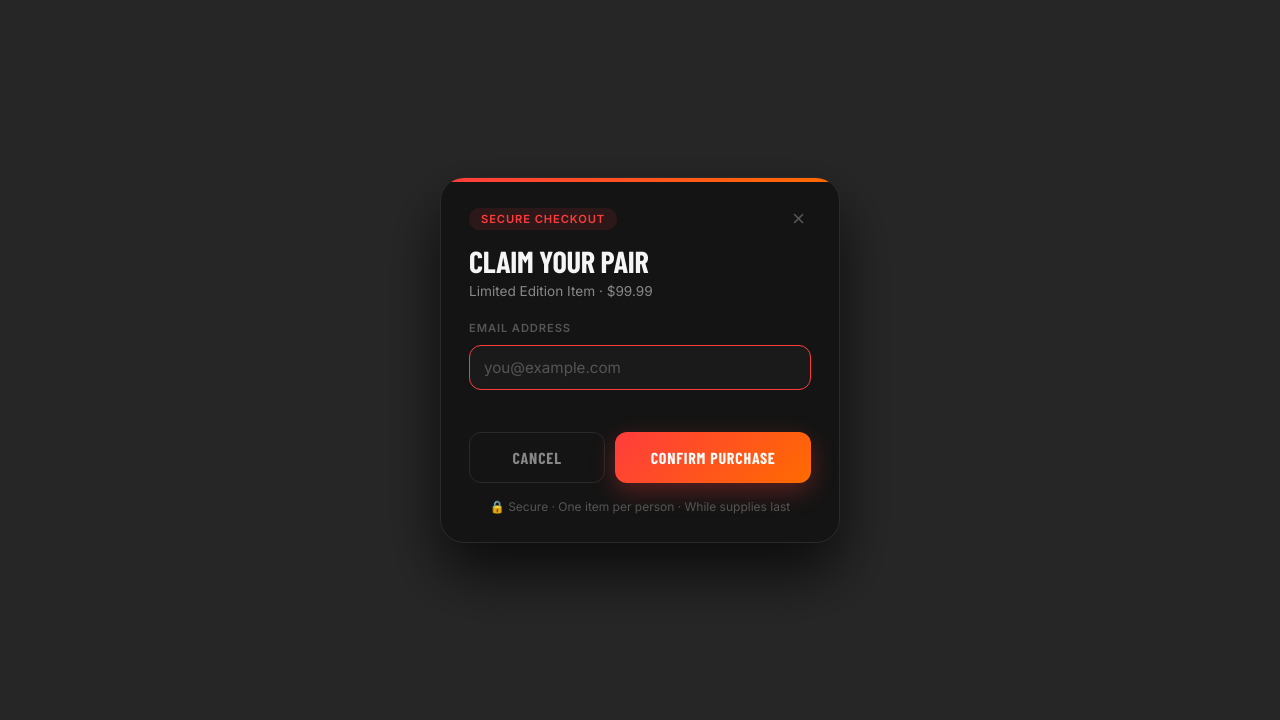
PurchaseModal › shows a friendly message when the user already purchased
Type "buyer@example.com" into the field labelled "Email address". click: (640, 367)
box: [469,345,811,390]
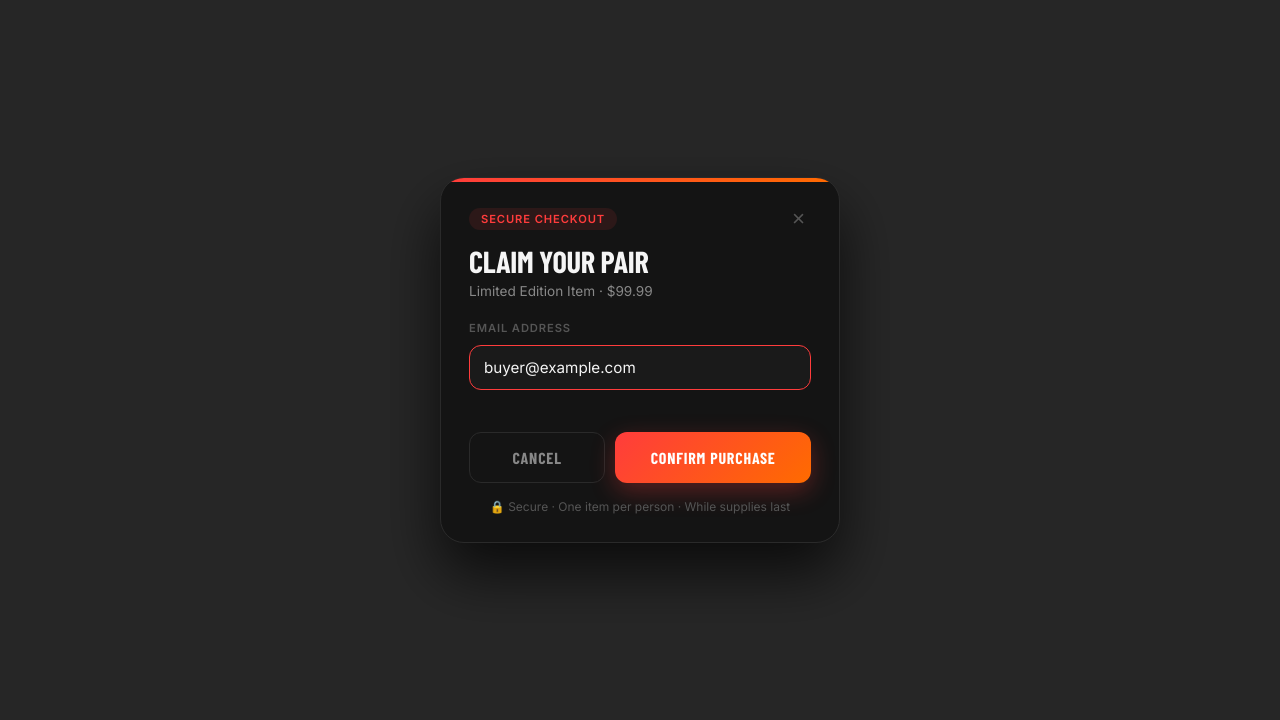
Click the button "Confirm purchase". click: (713, 458)
box: [615,432,811,483]
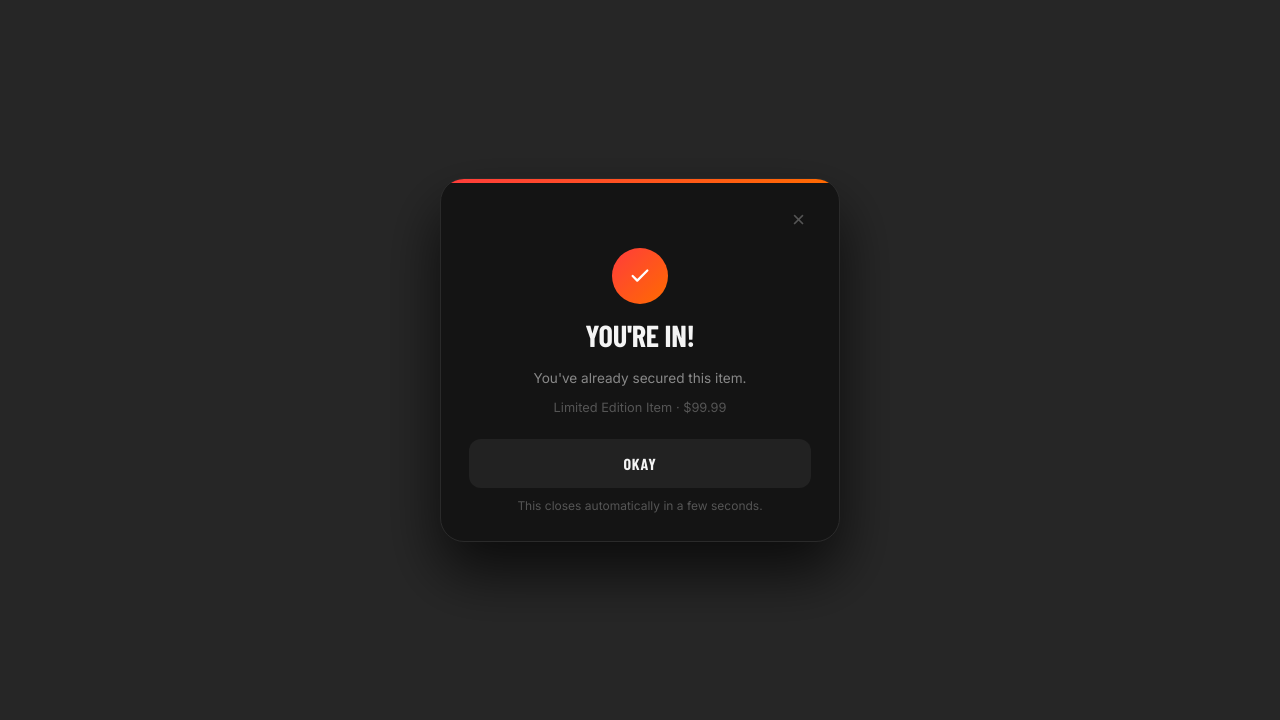
Now the text "You've already secured this item." is shown, box [534,370,746,386]
Now the heading "You're in!" is shown, box [585,320,695,350]
Now the button "Okay" is shown, box [469,439,811,488]
